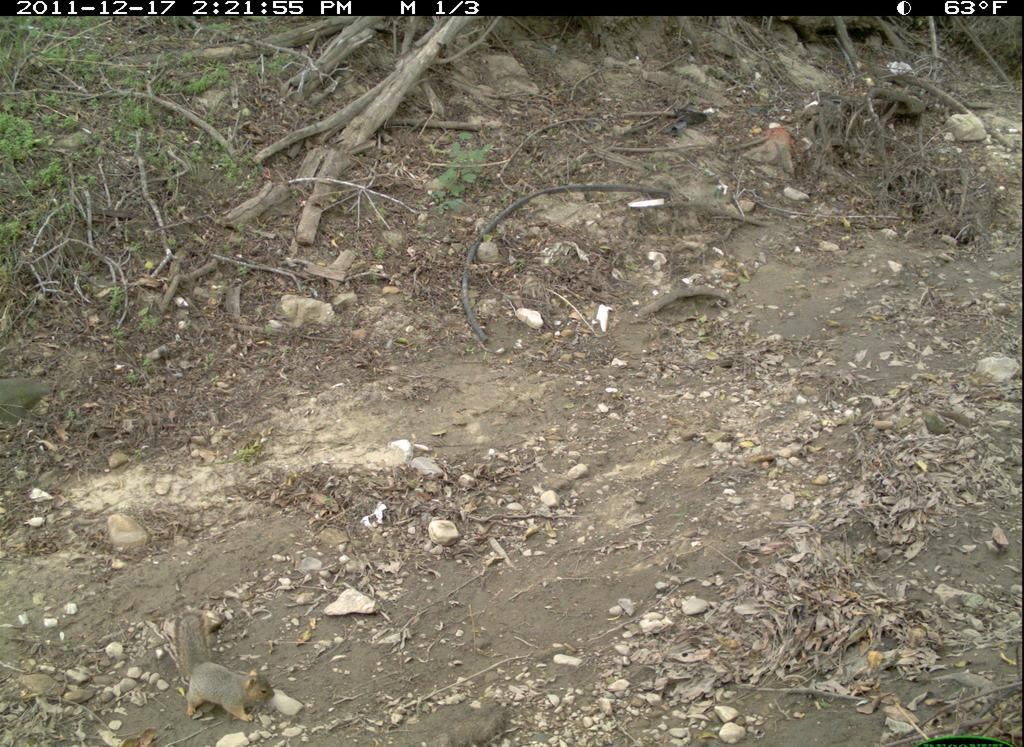squirrel: (159, 606, 300, 735)
